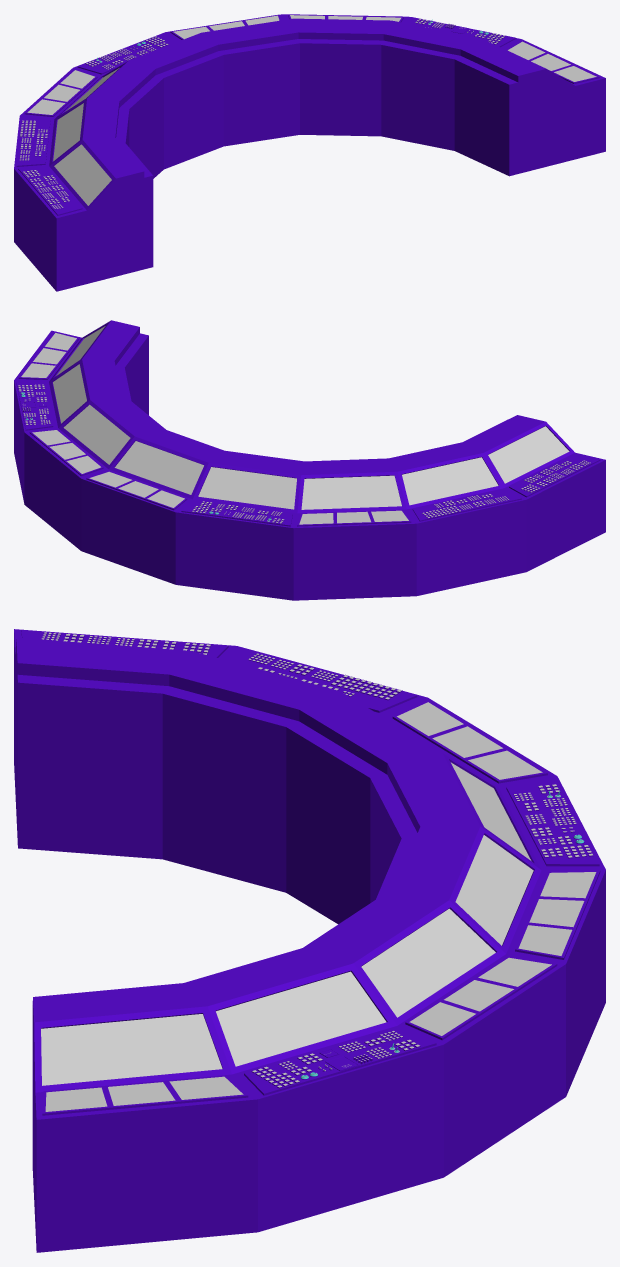
File: expcontrolroom_counter.gltf
The picture shows the model from 3 angles, top to bottom: view 1: azimuth 30°, elevation 25°; view 2: azimuth 150°, elevation 25°; view 3: azimuth 270°, elevation 25°; orthographic projection. The views are drawn at different scales.
Parts seen in each view (by area): view 1: Cube.096; view 2: Cube.096; view 3: Cube.096.
Part boxes in pixels (left/top/right/bottom): Cube.096: left=14, top=14, right=605, bottom=291; Cube.096: left=14, top=320, right=605, bottom=600; Cube.096: left=14, top=629, right=605, bottom=1252.
Bounding box in the file's own units: 7.62 × 1.28 × 3.88.
